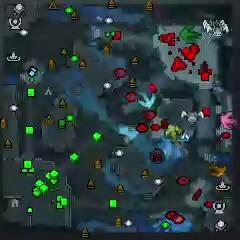x1: (220, 111, 237, 130)
x2: (165, 123, 183, 143)
x3: (138, 91, 157, 108)
x4: (180, 24, 200, 42)
x5: (210, 161, 228, 179)
